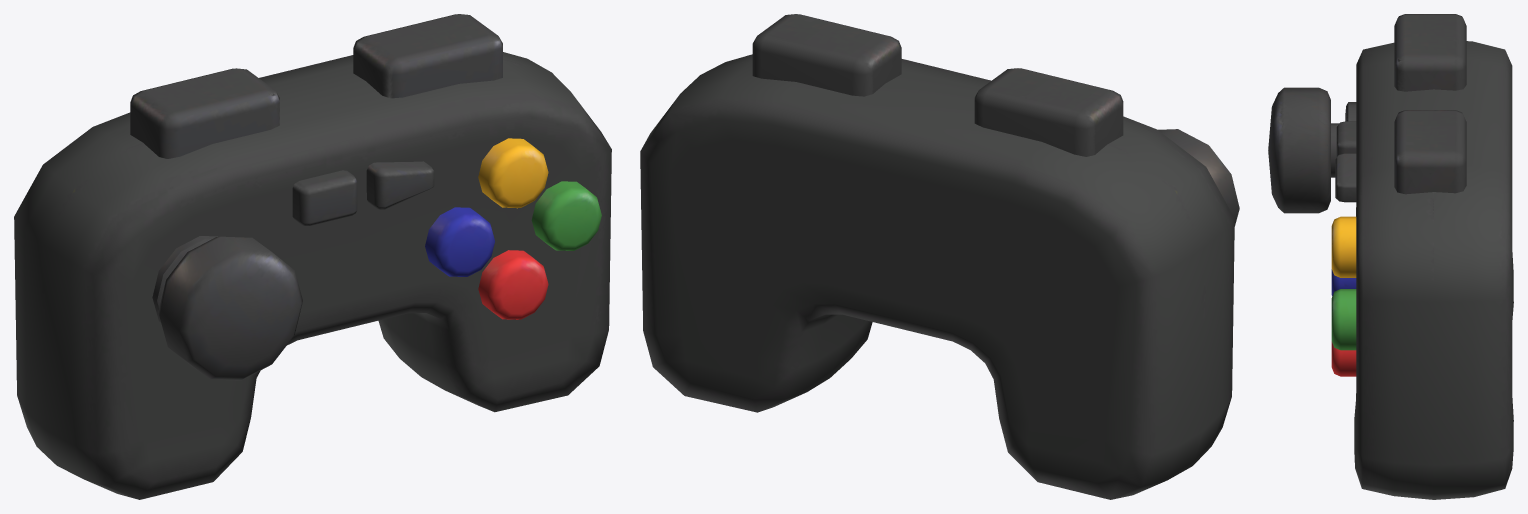
The model's file is 0-controller_black.fbx.
3 views of the same model, side by side, from view 1: azimuth 30°, elevation 25°; view 2: azimuth 150°, elevation 25°; view 3: azimuth 270°, elevation 25° (orthographic). The views are drawn at different scales.
Visible parts, largest first — view 1: 0-controller_black; view 2: 0-controller_black; view 3: 0-controller_black.
Part boxes in pixels (<box>): 0-controller_black: <box>14,14,611,499</box>; 0-controller_black: <box>640,14,1239,499</box>; 0-controller_black: <box>1268,14,1513,499</box>.
Bounding box in the file's own units: 131 × 85.31 × 58.64.
